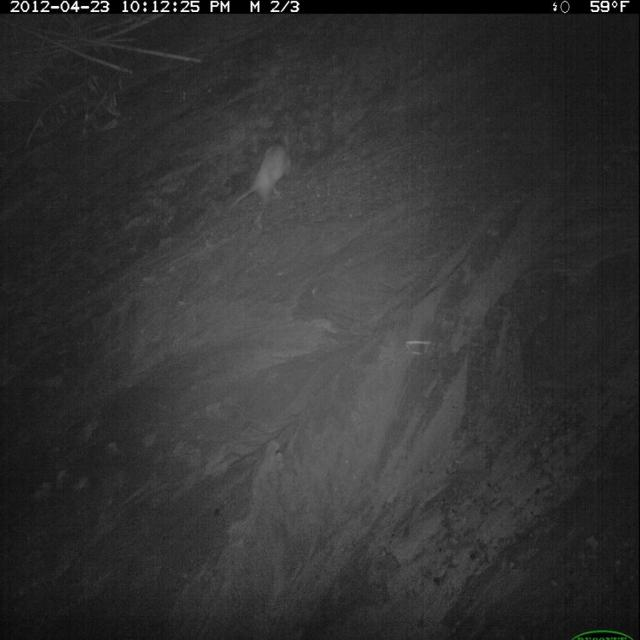opossum: (229, 127, 298, 235)
